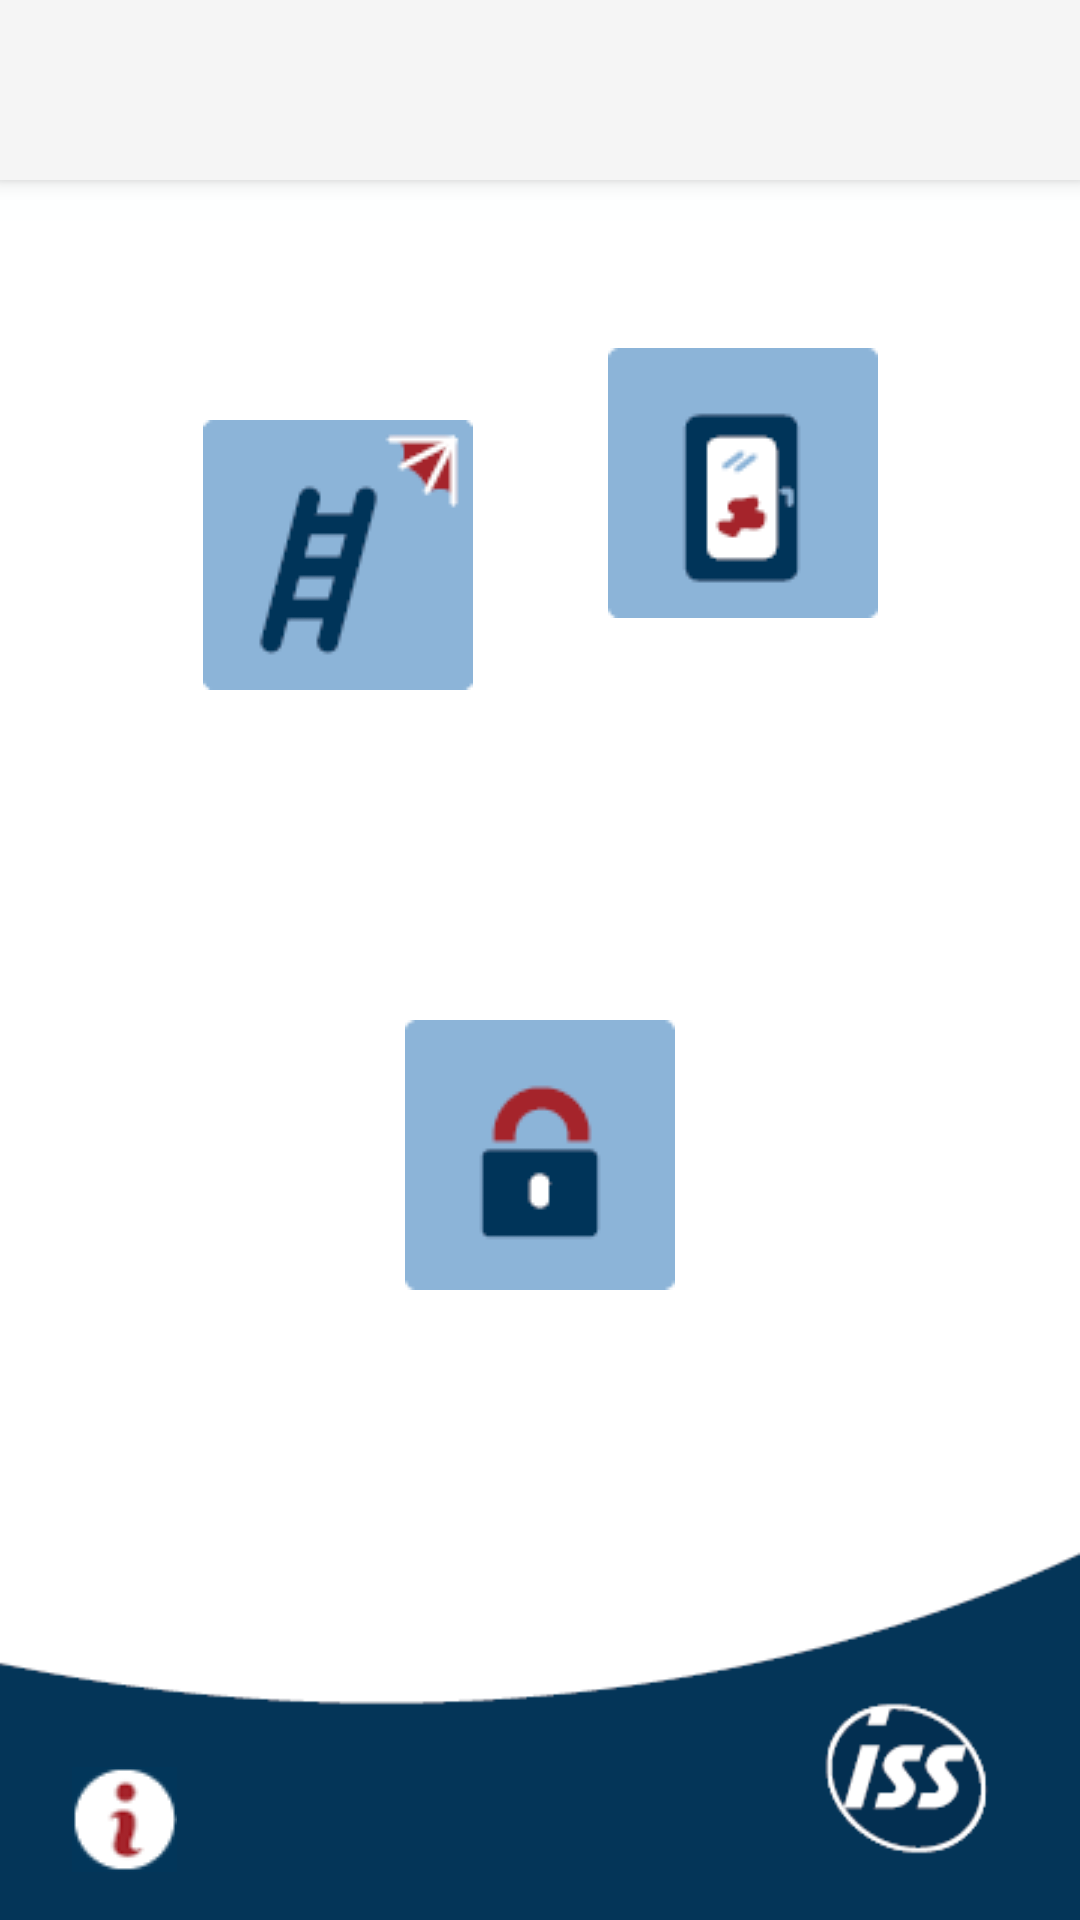

Icons on this 1080 x 1920 Android screen, each with its box as (x1, y1, x2, y2):
glas: (608, 348, 878, 618)
hoch: (203, 420, 473, 690)
info: (74, 1769, 177, 1870)
rep verschlossen: (405, 1020, 675, 1290)
